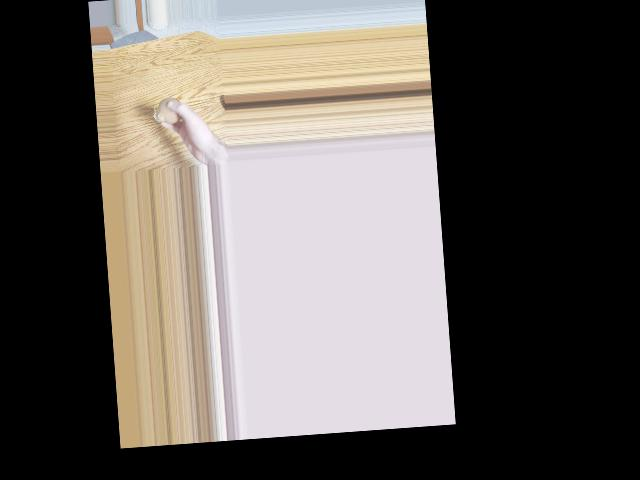onion: (159, 98, 181, 120)
